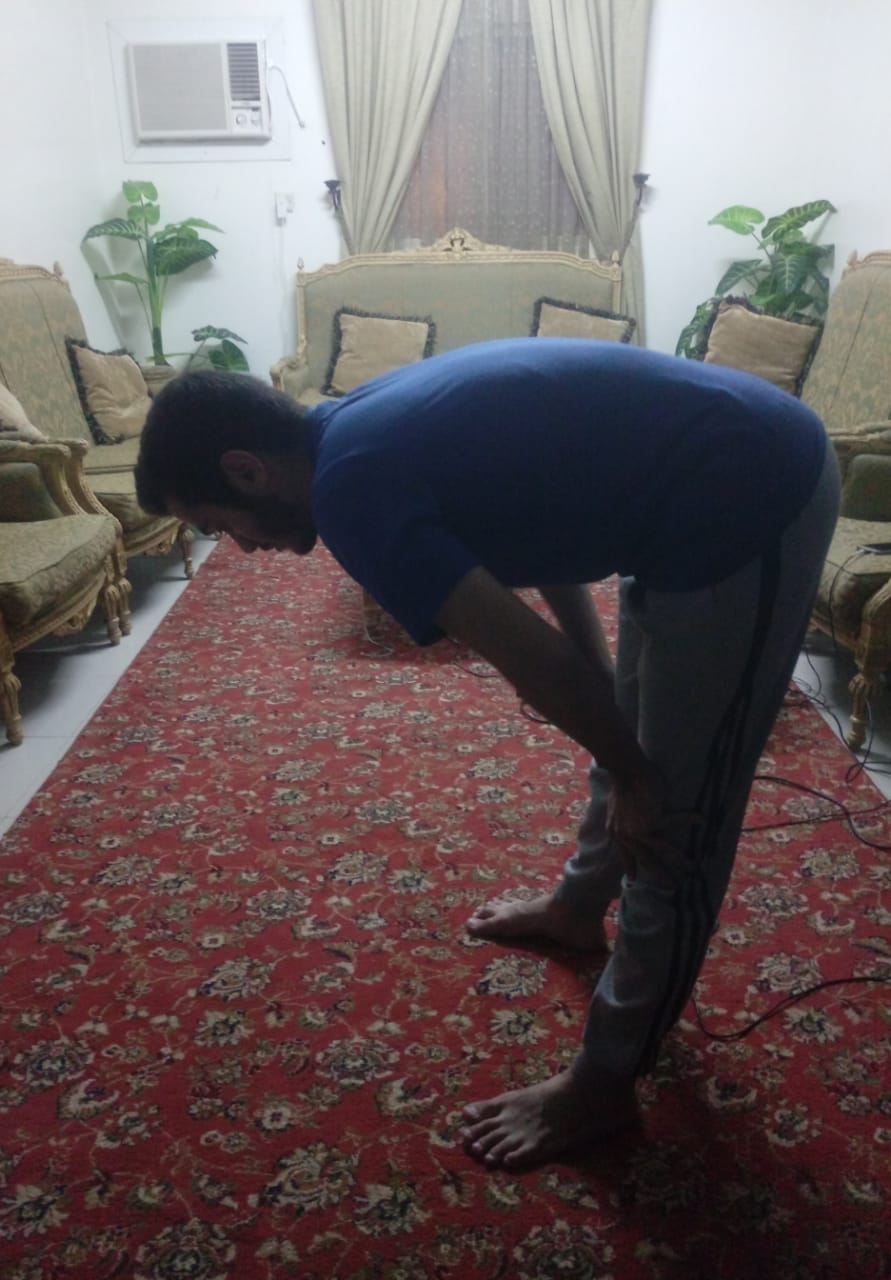ruku: (85, 311, 857, 1168)
